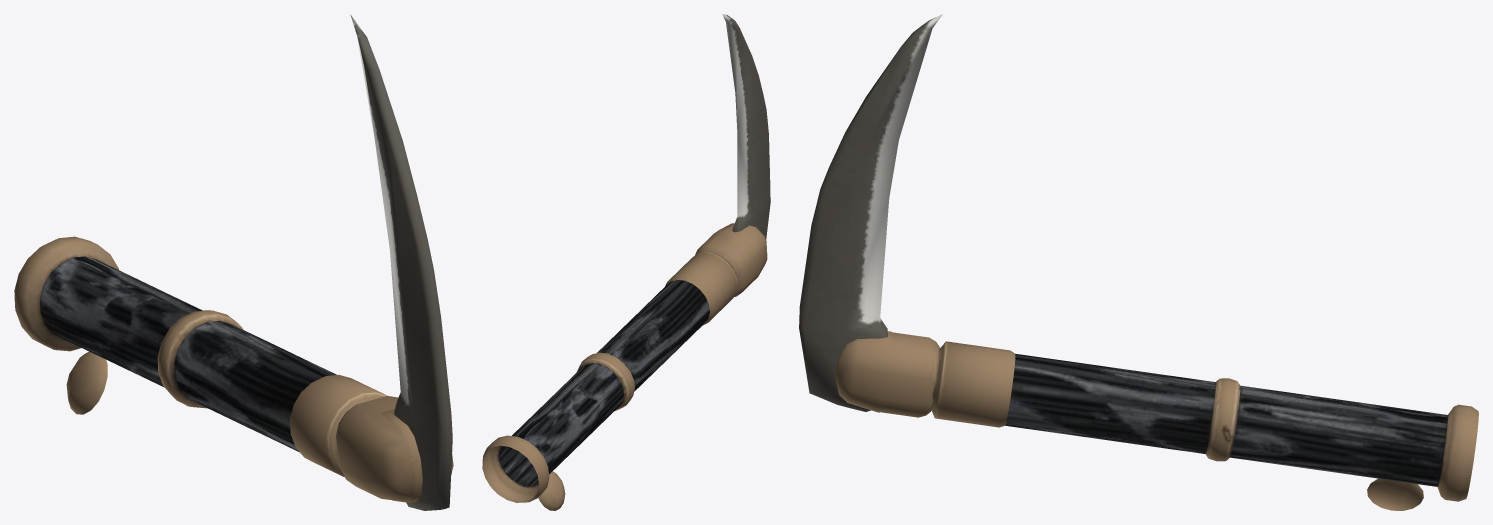
Rendered from kusarigama.glb.
The picture shows the model from 3 angles, left to right: view 1: azimuth 30°, elevation 25°; view 2: azimuth 150°, elevation 25°; view 3: azimuth 270°, elevation 25°; orthographic projection. The views are drawn at different scales.
Visible parts, largest first — view 1: kusarigama; view 2: kusarigama; view 3: kusarigama.
Part boxes in pixels (x1,y1,x2,y2): kusarigama: (14,14,453,510); kusarigama: (482,14,770,510); kusarigama: (799,14,1478,510).
Bounding box in the file's own units: 0.0826 × 0.473 × 0.583.
1 material, 1 textured.
